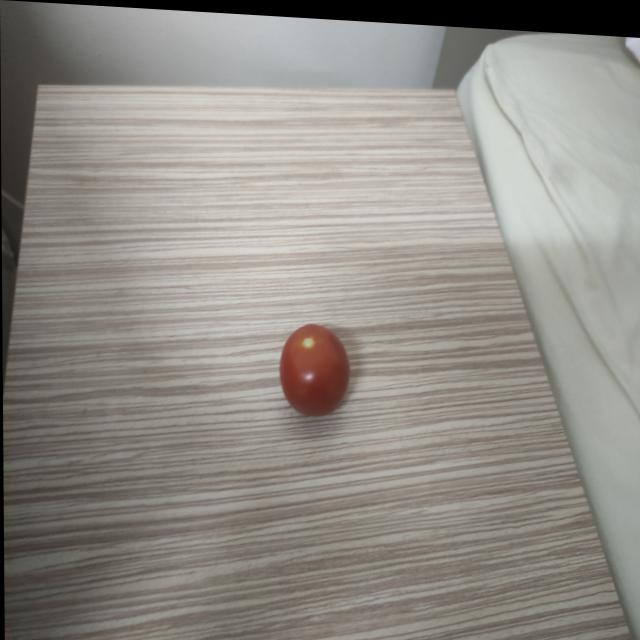kirmizi: (274, 313, 371, 421)
